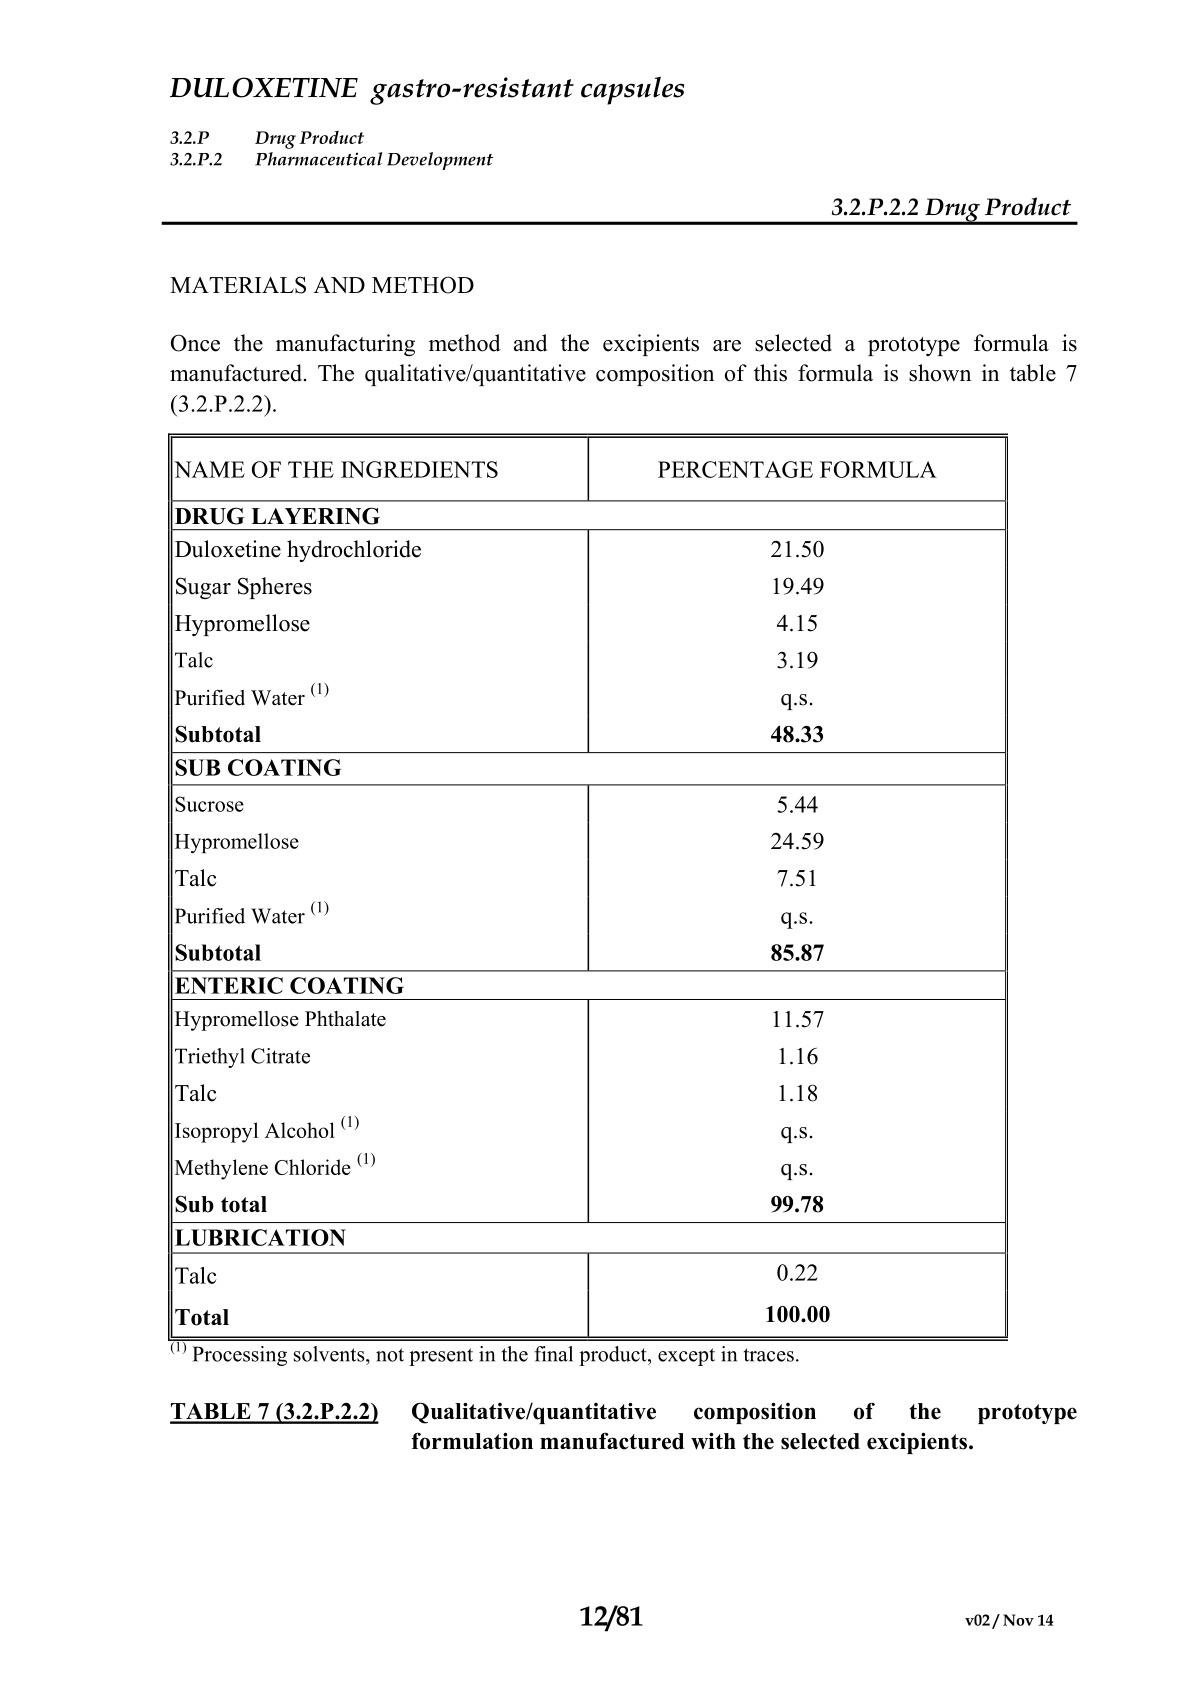merged_cells: (168, 432, 1009, 1343)
